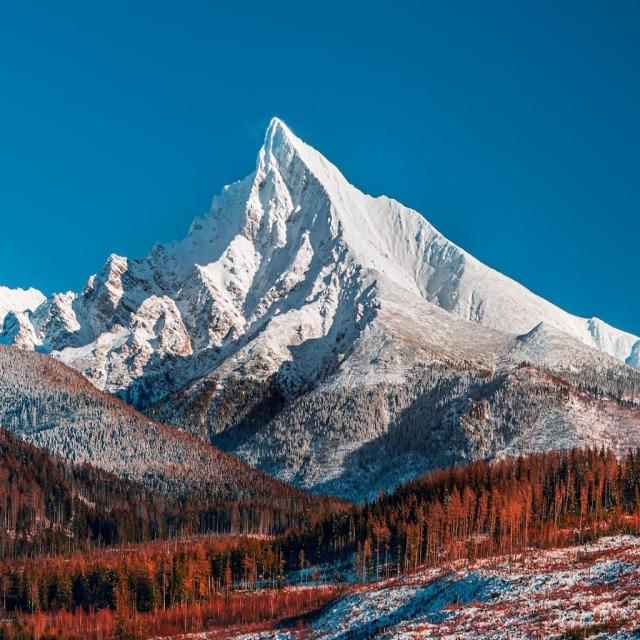Krivan: (177, 15, 374, 229)
